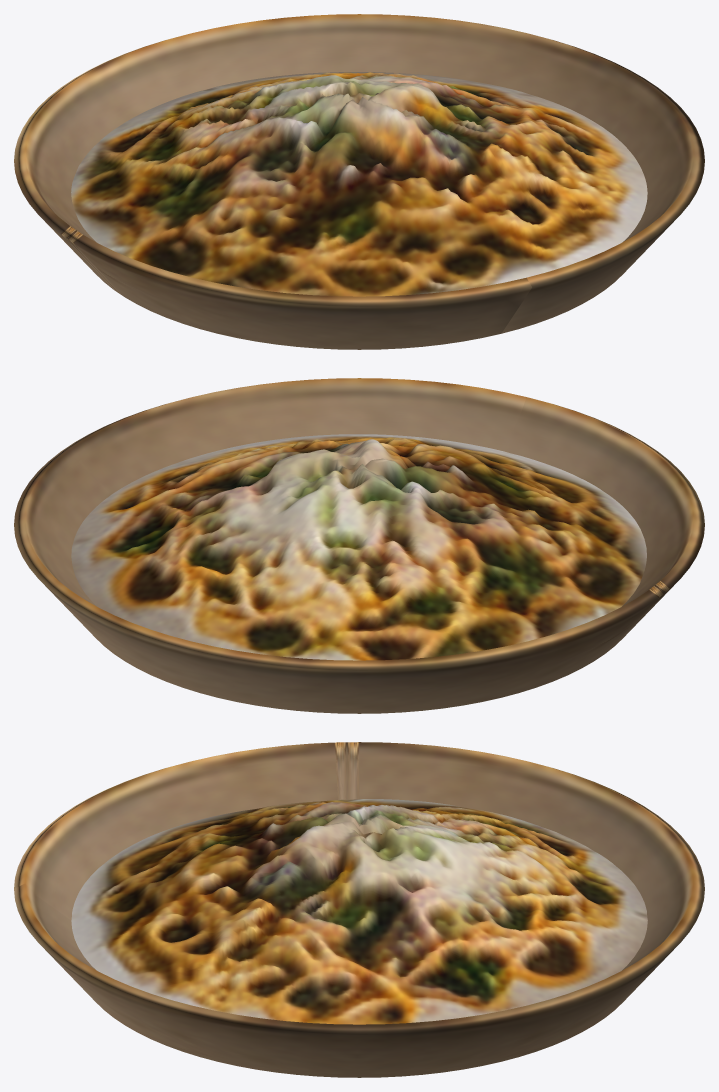
File: truffle-pasta.glb
The picture shows the model from 3 angles, top to bottom: view 1: azimuth 30°, elevation 25°; view 2: azimuth 150°, elevation 25°; view 3: azimuth 270°, elevation 25°; orthographic projection.
Visible parts, largest first — view 1: PhotoSculptedTagliatelleMound, SpeckledStonewarePastaBowl; view 2: PhotoSculptedTagliatelleMound, SpeckledStonewarePastaBowl; view 3: PhotoSculptedTagliatelleMound, SpeckledStonewarePastaBowl.
Boxes of the visible parts, x1,y1,x2,y2 form: PhotoSculptedTagliatelleMound: (71,72,647,296); SpeckledStonewarePastaBowl: (14,14,704,349); PhotoSculptedTagliatelleMound: (71,434,646,660); SpeckledStonewarePastaBowl: (14,378,704,713); PhotoSculptedTagliatelleMound: (71,799,647,1024); SpeckledStonewarePastaBowl: (14,742,704,1077).
Size of the model in its own units: 3.36 by 0.9376 by 3.36.
2 materials, 2 textured.
